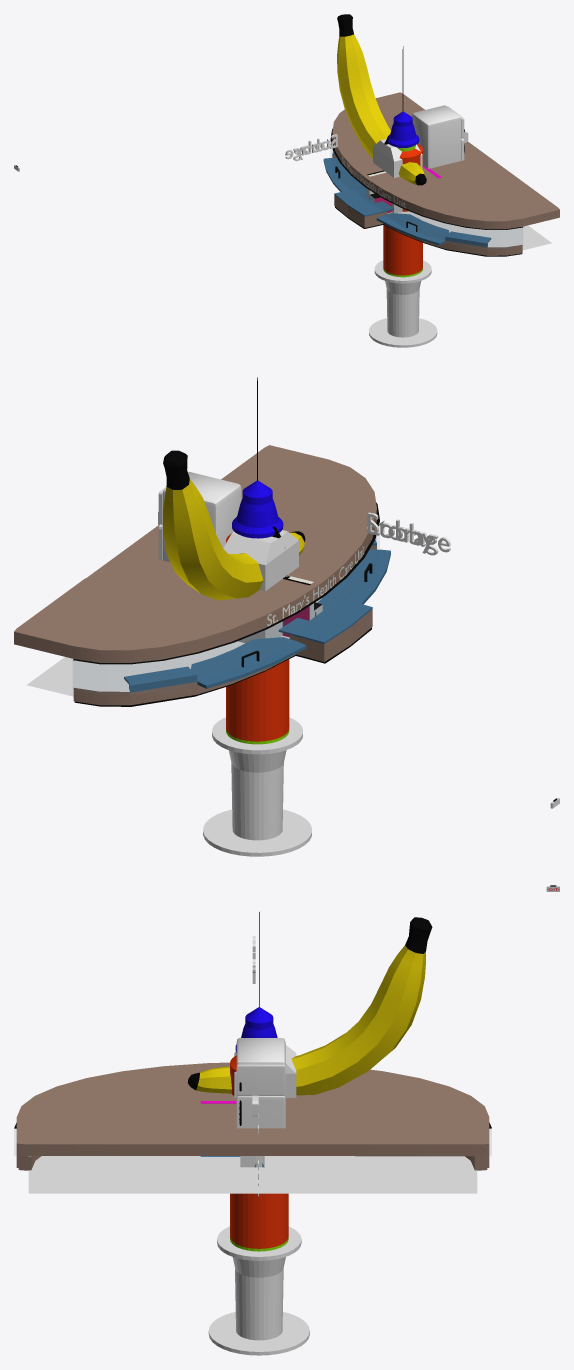
Rendered from Hosptial.fbx.
3 views of the same model, one above another, from view 1: azimuth 30°, elevation 25°; view 2: azimuth 150°, elevation 25°; view 3: azimuth 270°, elevation 25° (orthographic). The views are drawn at different scales.
Parts seen in each view (by area): view 1: Needle, NurseDeskRoof.002, NurseDeskRoof.001, Banana, Fridge, NurseDesk1, NurseDesk2, NurseDeskRoof, NurseDeskfFloor, NurseDesk3, Mlk, NurseDeskRoof.005; view 2: Needle, NurseDeskRoof, NurseDeskRoof.002, Banana, NurseDeskRoof.001, NurseDesk4, NurseDesk3, NurseDeskfFloor.001, Mlk, NurseDesk2, Fridge, NurseDeskRoof.005 (+2 smaller); view 3: NurseDeskRoof.002, Needle, NurseDeskRoof, Banana, NurseDeskRoof.001, NurseDeskfFloor.001, NurseDeskfFloor, FridgeDoorUpper, FridgeDoorLower, Fridge, Mlk.
Boxes of the visible parts, box(x1,y1,x2,y2) form: Needle: box(369, 46, 437, 347); NurseDeskRoof.002: box(335, 141, 514, 215); NurseDeskRoof.001: box(423, 176, 559, 229); Banana: box(337, 14, 426, 185); Fridge: box(412, 105, 461, 168); NurseDesk1: box(417, 226, 522, 256); NurseDesk2: box(348, 200, 434, 243); NurseDeskRoof: box(332, 92, 424, 150); NurseDeskfFloor: box(387, 211, 551, 250); NurseDesk3: box(326, 169, 370, 217); Mlk: box(373, 137, 422, 213); NurseDeskRoof.005: box(330, 128, 523, 231); Needle: box(203, 377, 311, 856); NurseDeskRoof: box(14, 578, 231, 662); NurseDeskRoof.002: box(86, 518, 372, 641); Banana: box(163, 450, 305, 600); NurseDeskRoof.001: box(221, 445, 376, 537); NurseDesk4: box(73, 658, 241, 706); NurseDesk3: box(213, 616, 350, 685); NurseDeskfFloor.001: box(26, 635, 289, 696); Mlk: box(223, 526, 298, 643); NurseDesk2: box(316, 568, 386, 646); Fridge: box(162, 472, 241, 562); NurseDeskRoof.005: box(73, 502, 379, 667); NurseDeskRoof.002: box(123, 1062, 382, 1155); Needle: box(208, 912, 309, 1355); NurseDeskRoof: box(355, 1071, 489, 1156); Banana: box(188, 917, 432, 1095); NurseDeskRoof.001: box(16, 1071, 150, 1155); NurseDeskfFloor.001: box(253, 1156, 477, 1193); NurseDeskfFloor: box(28, 1156, 252, 1193); FridgeDoorUpper: box(236, 1064, 285, 1095); FridgeDoorLower: box(236, 1096, 285, 1128); Fridge: box(236, 1038, 285, 1097); Mlk: box(234, 1045, 296, 1097).
Bounding box in the file's own units: 2106 × 1613 × 1860.
